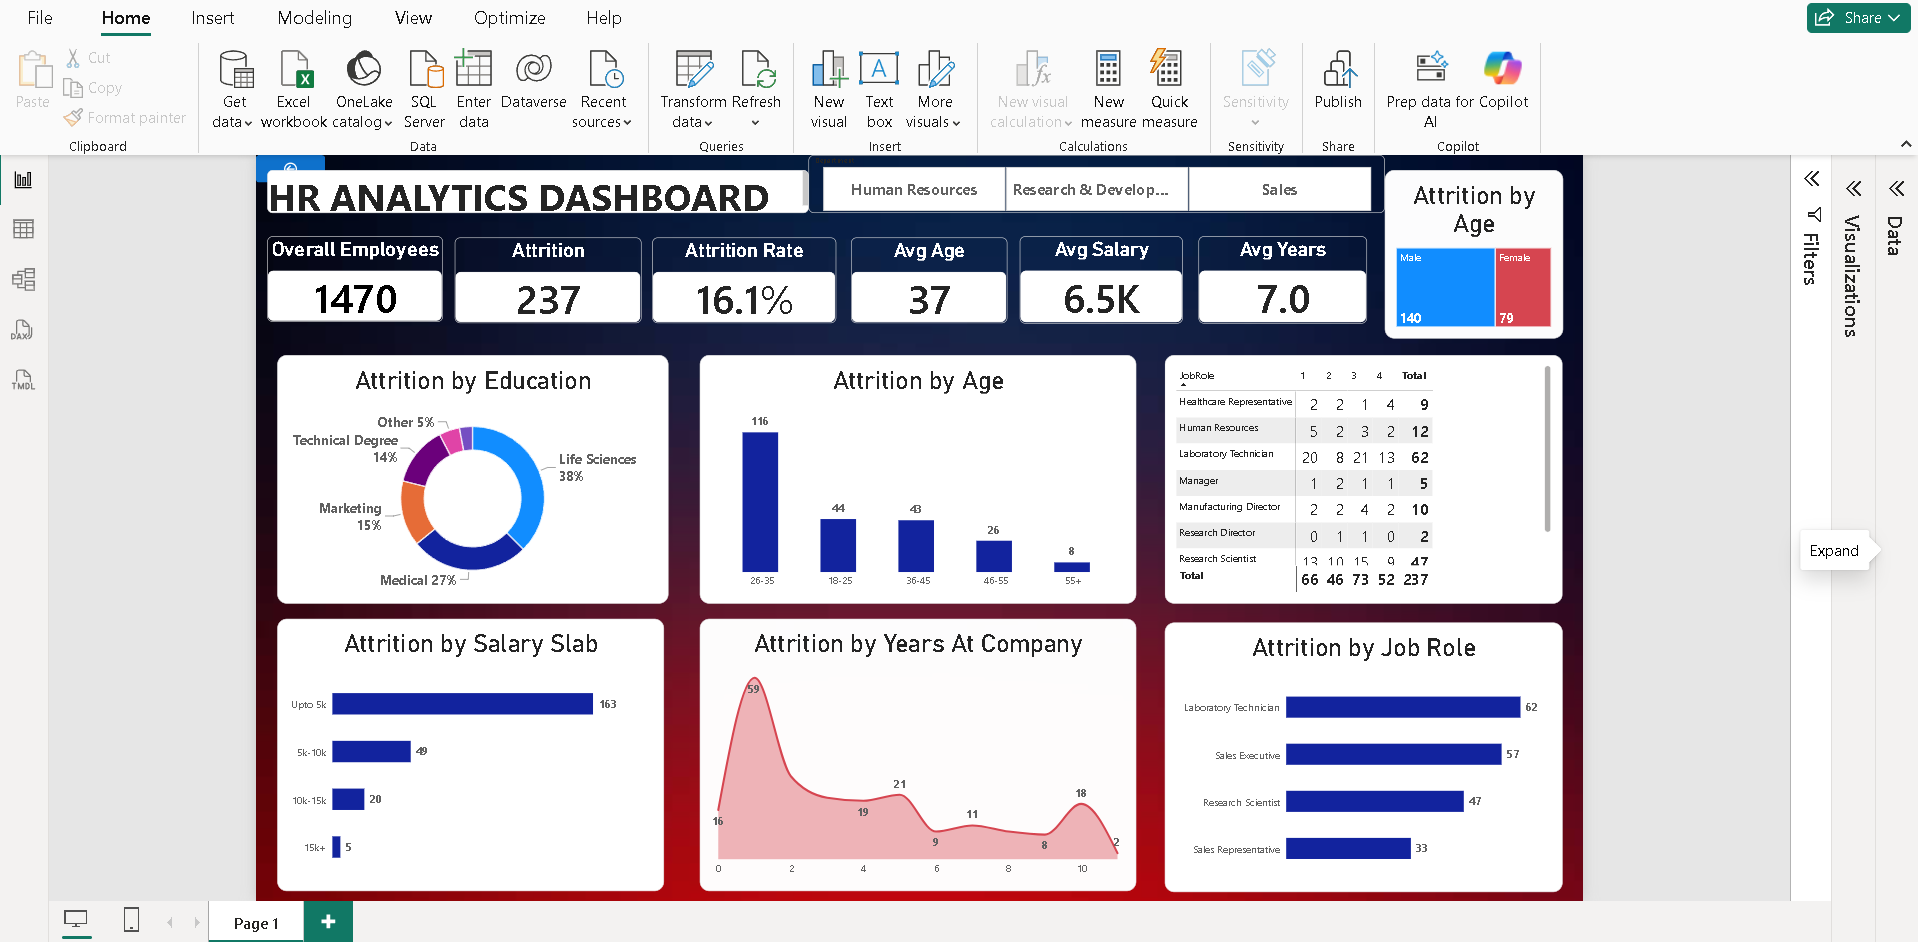

This screenshot's page, from the dashboard's own definition file:
{"tool":"powerbi","page":{"name":"Page 1","canvas":[1920,1080],"ordinal":0},"visuals":[{"type":"cardVisual","title":"Overall Employees","fields":{"Data":["CountNonNull(HR_Analytics.EmpID)"]},"box":[16,118,254,124],"z":0},{"type":"cardVisual","title":"Attrition","fields":{"Data":["Sum(HR_Analytics.AttrtionCount)"]},"box":[288,120,270,124],"z":1000},{"type":"cardVisual","title":"Attrition Rate","fields":{"Data":["HR_Analytics.AttritionRate"]},"box":[574,120,266,124],"z":2000},{"type":"cardVisual","title":"Avg Age","fields":{"Data":["Avg(HR_Analytics.Age)"]},"box":[862,120,226,124],"z":3000},{"type":"cardVisual","title":"Avg Salary","fields":{"Data":["Avg(HR_Analytics.MonthlyIncome)"]},"box":[1106,118,236,126],"z":4000},{"type":"cardVisual","title":"Avg Years","fields":{"Data":["Avg(HR_Analytics.YearsAtCompany)"]},"box":[1364,118,244,126],"z":5000},{"type":"donutChart","title":"Attrition by Education","fields":{"Category":["HR_Analytics.EducationField"],"Y":["Sum(HR_Analytics.AttrtionCount)"]},"box":[30,290,566,360],"z":6000},{"type":"columnChart","title":"Attrition by Age","fields":{"Category":["HR_Analytics.AgeGroup"],"Y":["Sum(HR_Analytics.AttrtionCount)"]},"box":[642,290,632,360],"z":7000},{"type":"pivotTable","fields":{"Rows":["HR_Analytics.JobRole"],"Columns":["HR_Analytics.JobSatisfaction"],"Values":["Sum(HR_Analytics.AttrtionCount)"]},"box":[1316,290,576,360],"z":8000},{"type":"actionButton","box":[0,0,100,40],"z":9000},{"type":"barChart","title":"Attrition by Salary Slab","fields":{"Category":["HR_Analytics.SalarySlab"],"Y":["Sum(HR_Analytics.AttrtionCount)"]},"box":[30,672,560,394],"z":10000},{"type":"barChart","title":"Attrition by Job Role","fields":{"Category":["HR_Analytics.JobRole"],"Y":["Sum(HR_Analytics.AttrtionCount)"]},"box":[1316,676,576,390],"z":11000},{"type":"areaChart","title":"Attrition by Years At Company","fields":{"Category":["HR_Analytics.YearsAtCompany"],"Y":["Sum(HR_Analytics.AttrtionCount)"]},"box":[642,672,632,394],"z":12000},{"type":"treemap","title":"Attrition by Age","fields":{"Values":["Sum(HR_Analytics.AttrtionCount)"],"Group":["HR_Analytics.Gender"]},"box":[1634,22,258,244],"z":13000},{"type":"slicer","fields":{"Values":["HR_Analytics.Department"]},"box":[800,0,834,84],"z":14000},{"type":"textbox","box":[16,22,784,62],"z":15000}]}

Visuals, with their boxes on the page's 1920x1080 design canvas (x1, y1, x2, y2). These are canvas units, not pixel positions in the 1918x942 screenshot, which may show the page scaled, cropped or inside an application window:
"Overall Employees" cardVisual: [x1=16, y1=118, x2=270, y2=242]
"Attrition" cardVisual: [x1=288, y1=120, x2=558, y2=244]
"Attrition Rate" cardVisual: [x1=574, y1=120, x2=840, y2=244]
"Avg Age" cardVisual: [x1=862, y1=120, x2=1088, y2=244]
"Avg Salary" cardVisual: [x1=1106, y1=118, x2=1342, y2=244]
"Avg Years" cardVisual: [x1=1364, y1=118, x2=1608, y2=244]
"Attrition by Education" donutChart: [x1=30, y1=290, x2=596, y2=650]
"Attrition by Age" columnChart: [x1=642, y1=290, x2=1274, y2=650]
pivotTable - HR_Analytics.JobRole x HR_Analytics.JobSatisfaction: [x1=1316, y1=290, x2=1892, y2=650]
actionButton: [x1=0, y1=0, x2=100, y2=40]
"Attrition by Salary Slab" barChart: [x1=30, y1=672, x2=590, y2=1066]
"Attrition by Job Role" barChart: [x1=1316, y1=676, x2=1892, y2=1066]
"Attrition by Years At Company" areaChart: [x1=642, y1=672, x2=1274, y2=1066]
"Attrition by Age" treemap: [x1=1634, y1=22, x2=1892, y2=266]
slicer - HR_Analytics.Department: [x1=800, y1=0, x2=1634, y2=84]
textbox: [x1=16, y1=22, x2=800, y2=84]
